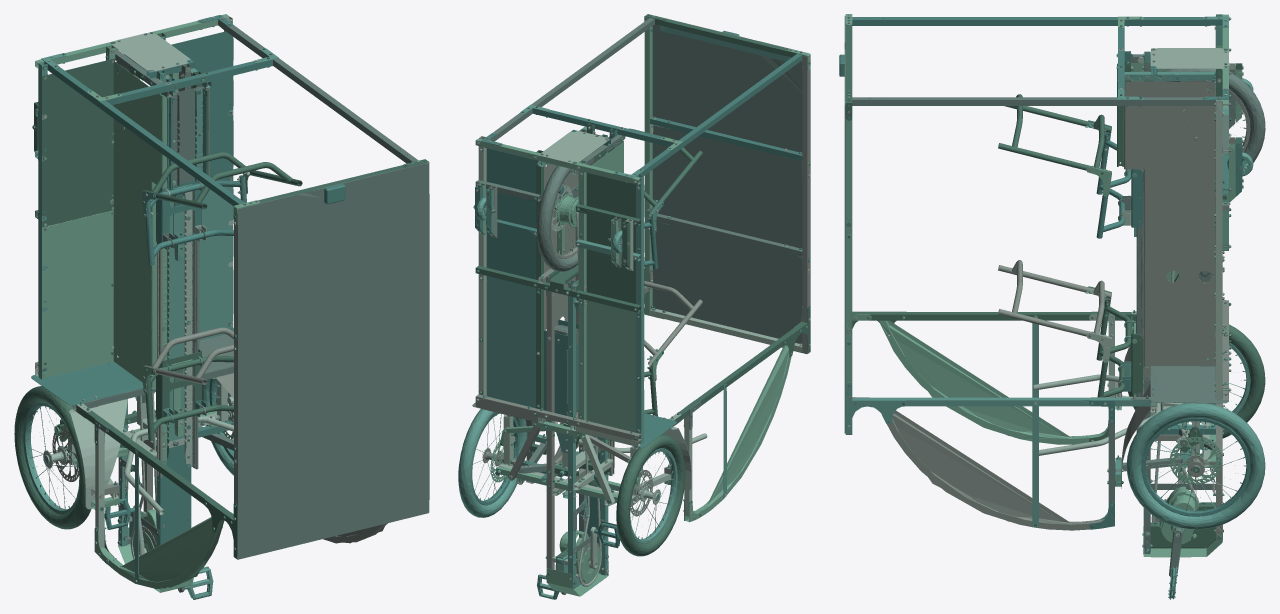
File: vheliotech-solaire.glb
3 renders of one model, left to right at view 1: azimuth 30°, elevation 25°; view 2: azimuth 150°, elevation 25°; view 3: azimuth 270°, elevation 25°, orthographic. The views are drawn at different scales.
Visible parts, largest first — view 1: groupe-6, groupe-3, groupe-2, groupe-0, groupe-1, groupe-5, groupe-4; view 2: groupe-6, groupe-3, groupe-1, groupe-2, groupe-0, groupe-4, groupe-5; view 3: groupe-4, groupe-3, groupe-1, groupe-6, groupe-2, groupe-0, groupe-5.
Part boxes in pixels (<box>): groupe-6: <box>32,20,429,592</box>; groupe-3: <box>29,14,428,592</box>; groupe-2: <box>14,33,429,562</box>; groupe-0: <box>30,15,345,589</box>; groupe-1: <box>23,22,429,599</box>; groupe-5: <box>32,16,257,582</box>; groupe-4: <box>28,17,387,558</box>; groupe-6: <box>472,18,810,594</box>; groupe-3: <box>475,15,810,596</box>; groupe-1: <box>458,16,810,599</box>; groupe-2: <box>475,14,810,577</box>; groupe-0: <box>472,30,810,585</box>; groupe-4: <box>475,49,810,583</box>; groupe-5: <box>474,67,810,586</box>; groupe-4: <box>846,16,1250,539</box>; groupe-3: <box>845,14,1245,557</box>; groupe-1: <box>845,14,1265,599</box>; groupe-6: <box>844,15,1265,576</box>; groupe-2: <box>845,24,1265,548</box>; groupe-0: <box>839,17,1250,553</box>; groupe-5: <box>847,17,1246,551</box>.
Size of the model in its own units: 850 by 2194 by 1629.
